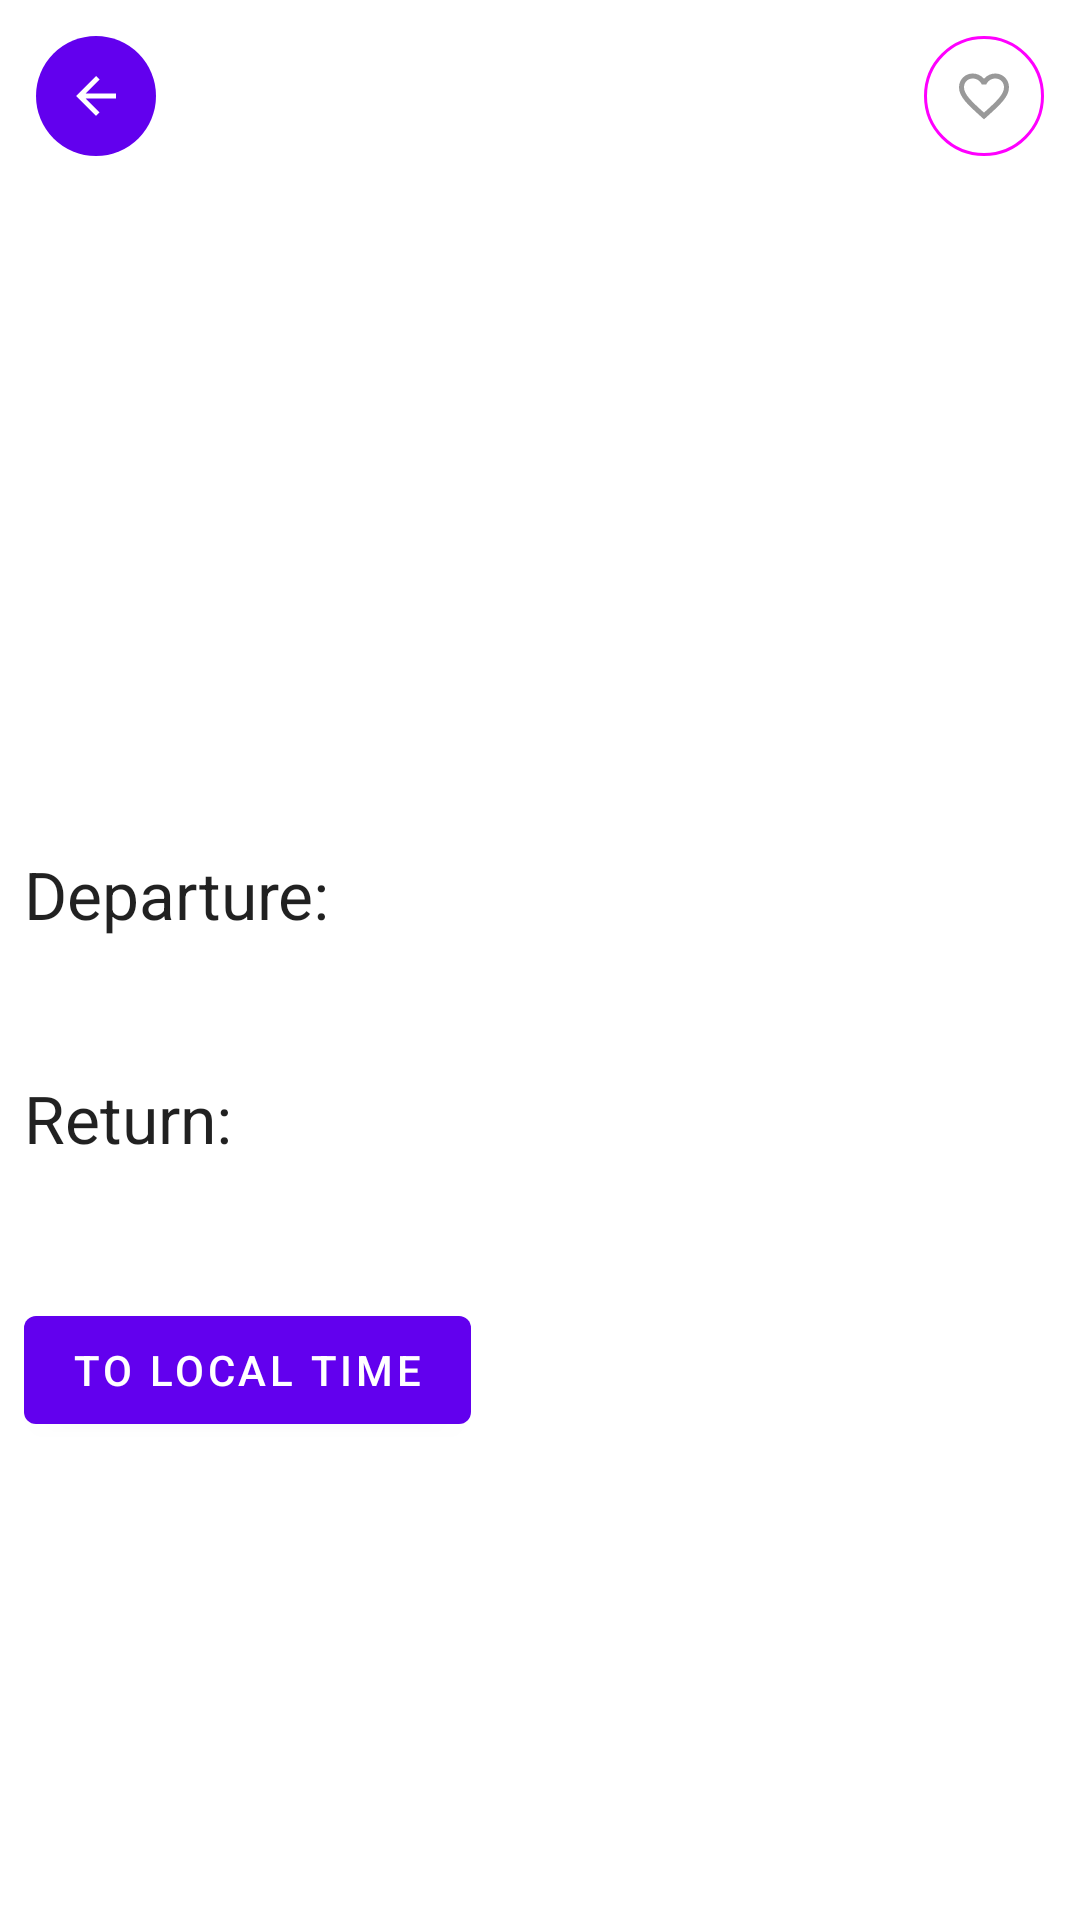

Screen size 1080 x 1920. Icon name, then its box in pixels as (x1, y1, x2, y2):
arrow back: (36, 36, 156, 156)
like: (924, 36, 1044, 156)
